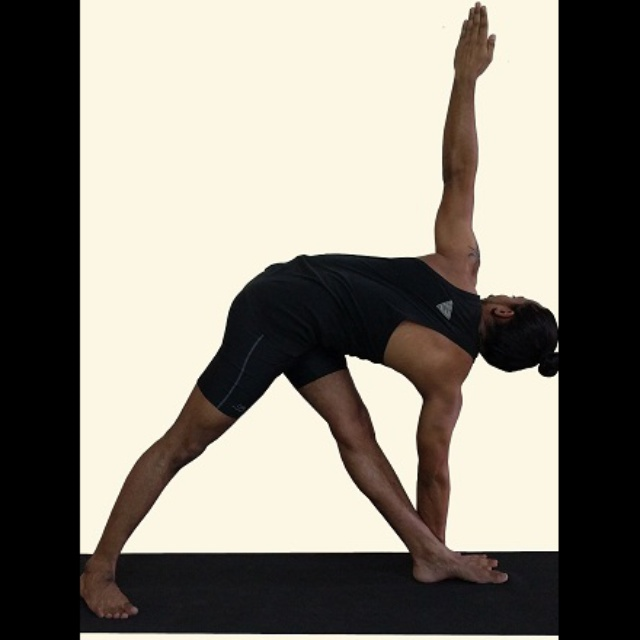Triangle_Pose: (81, 1, 562, 623)
